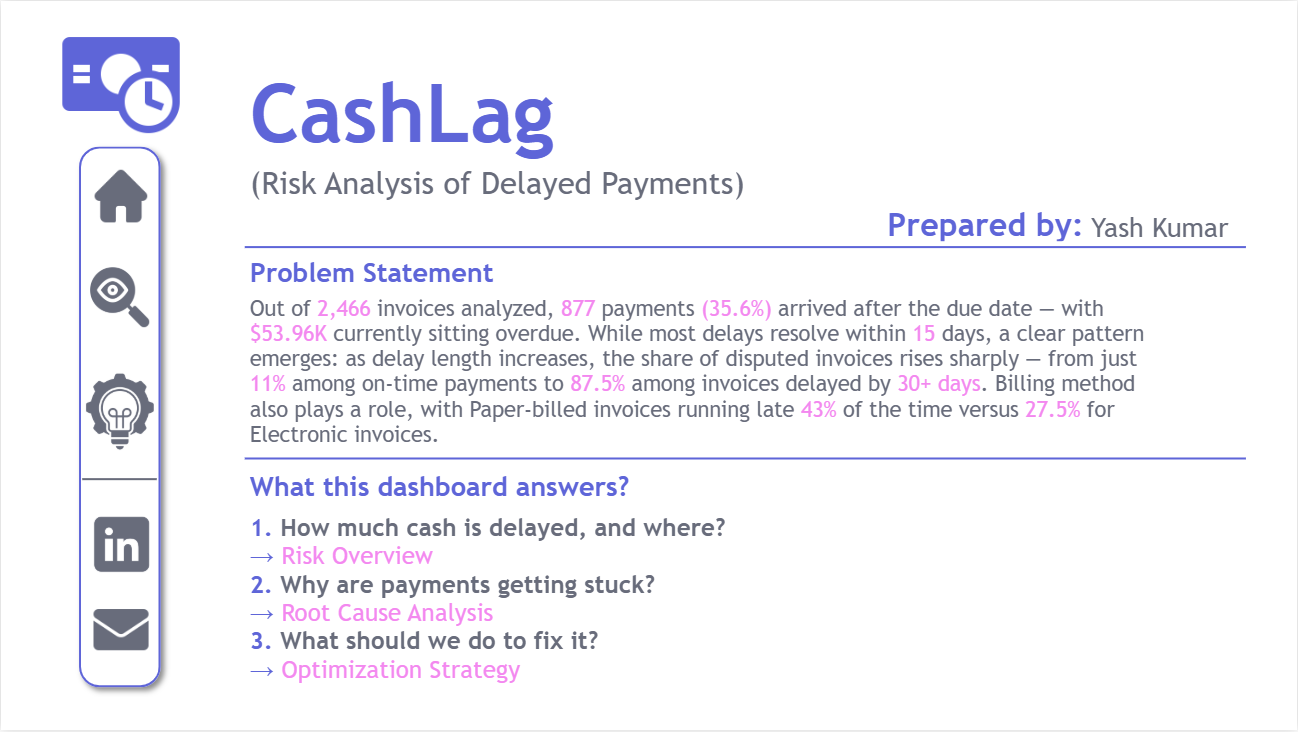

What the dashboard file says about the page in this screenshot:
{"tool":"powerbi","page":{"name":"Cover","canvas":[1280,720],"ordinal":0},"visuals":[{"type":"shape","box":[67.1,132.9,101.4,554.8],"z":0},{"type":"image","box":[19.2,24.7,197.3,116.4],"z":1000},{"type":"image","box":[87.7,167.1,61.6,52.1],"z":2000},{"type":"image","box":[86.3,263,61.6,58.9],"z":3000},{"type":"image","box":[79.5,354.8,76.7,102.7],"z":4000},{"type":"image","box":[87.7,505.5,63,63],"z":5000},{"type":"image","box":[91.8,589,54.8,64.4],"z":6000},{"type":"shape","box":[80.8,441.1,74,63],"z":7000},{"type":"textbox","title":"CashLag","box":[241.1,64.4,321.9,95.9],"z":8000},{"type":"shape","box":[241.1,231.5,989,21.9],"z":9000},{"type":"shape","box":[241.1,445.2,989,12.3],"z":10000},{"type":"textbox","title":"(Risk Analysis of Delayed Payments)","box":[241.1,161.6,511,38.4],"z":11000},{"type":"textbox","title":"Prepared by:","box":[869.9,201.4,212.3,35.6],"z":12000},{"type":"textbox","title":"Yash Kumar","box":[1071.2,208.2,150.7,31.5],"z":13000},{"type":"textbox","title":"Problem Statement","box":[241.1,253.4,256.2,30.1],"z":14000},{"type":"textbox","box":[241.1,286.3,905.5,165.8],"z":15000},{"type":"textbox","title":"What this dashboard answers?","box":[241.1,464.4,398.6,37],"z":16000},{"type":"textbox","box":[241.1,501.4,511,186.3],"z":17000}]}

Visuals, with their boxes in screenshot pixels (x1, y1, x2, y2), scaled from the page's 1280x720 canvas onto the 1298x732 screenshot:
shape: [68, 135, 171, 699]
image: [19, 25, 220, 143]
image: [89, 170, 151, 223]
image: [88, 267, 150, 327]
image: [81, 361, 158, 465]
image: [89, 514, 153, 578]
image: [93, 599, 149, 664]
shape: [82, 448, 157, 513]
"CashLag" textbox: [244, 65, 571, 163]
shape: [244, 235, 1247, 258]
shape: [244, 453, 1247, 465]
"(Risk Analysis of Delayed Payments)" textbox: [244, 164, 763, 203]
"Prepared by:" textbox: [882, 205, 1097, 241]
"Yash Kumar" textbox: [1086, 212, 1239, 244]
"Problem Statement" textbox: [244, 258, 504, 288]
textbox: [244, 291, 1163, 460]
"What this dashboard answers?" textbox: [244, 472, 649, 510]
textbox: [244, 510, 763, 699]
